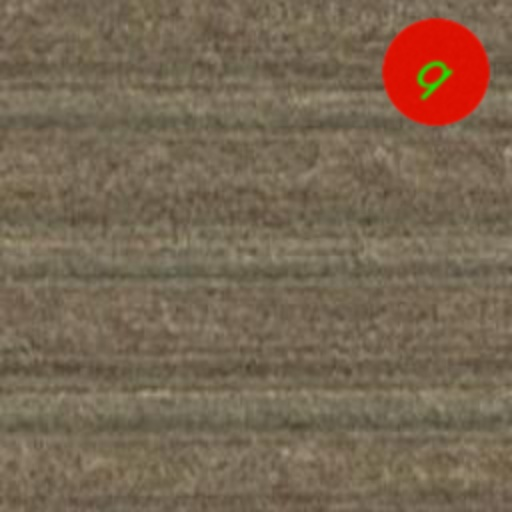circle: (360, 0, 512, 150)
